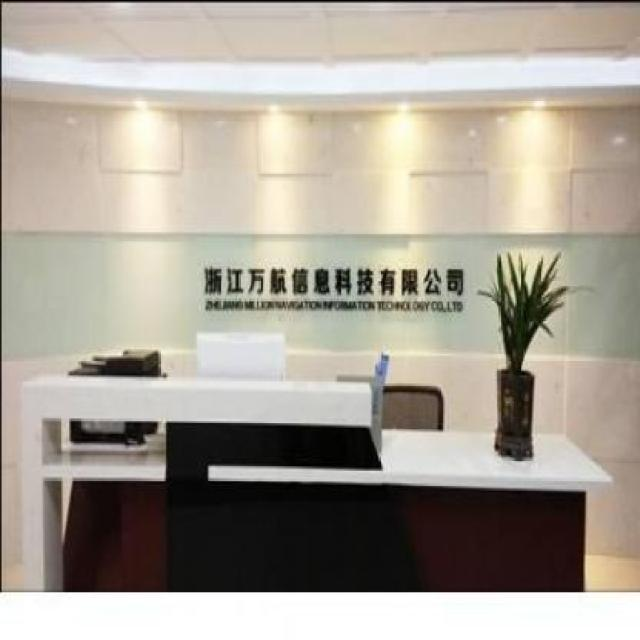frontdesk: (12, 338, 616, 640)
